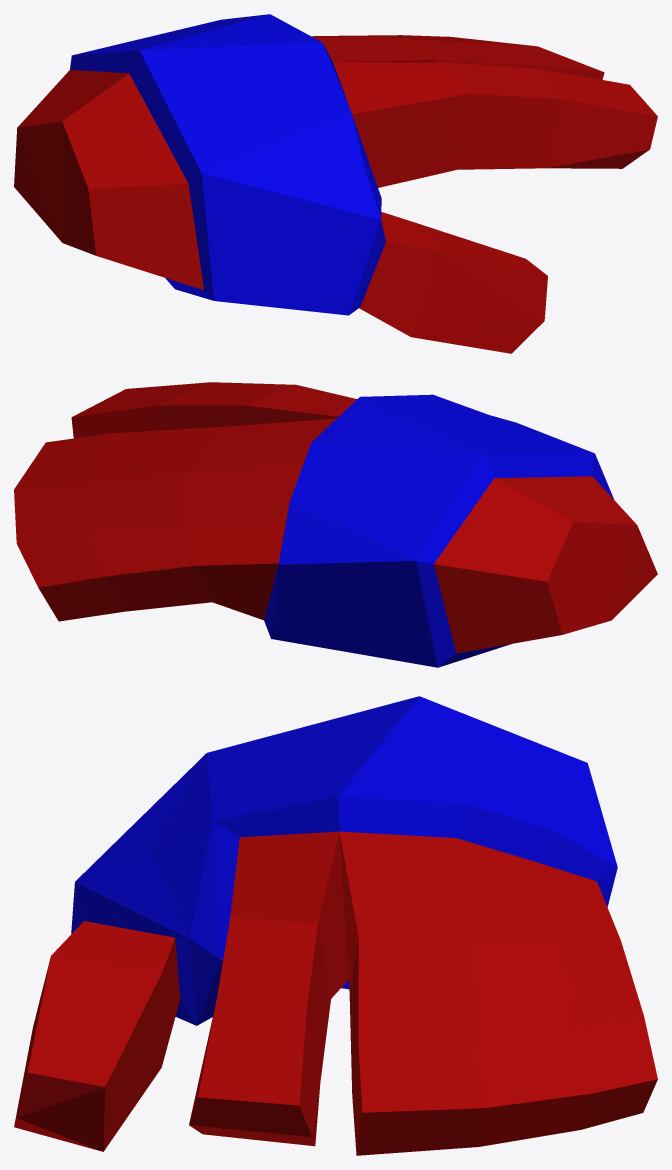
Rendered from Chr_HandLeft_Male_Static_15.fbx.
3 renders of one model, top to bottom at view 1: azimuth 30°, elevation 25°; view 2: azimuth 150°, elevation 25°; view 3: azimuth 270°, elevation 25°, orthographic. The views are drawn at different scales.
Visible parts, largest first — view 1: Chr_HandLeft_Male_15; view 2: Chr_HandLeft_Male_15; view 3: Chr_HandLeft_Male_15.
Part boxes in pixels (box(x1,y1,x2,y2)): Chr_HandLeft_Male_15: box(14, 14, 657, 353); Chr_HandLeft_Male_15: box(14, 382, 657, 667); Chr_HandLeft_Male_15: box(14, 696, 657, 1155).
Size of the model in its own units: 23.35 by 10.36 by 18.8.
